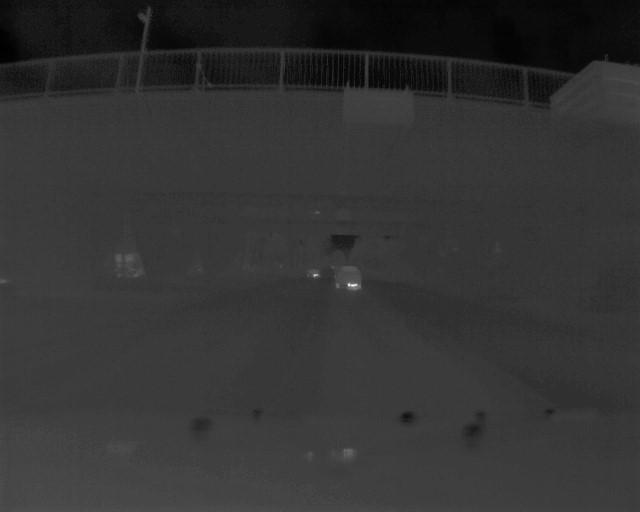car: (335, 263, 362, 294)
